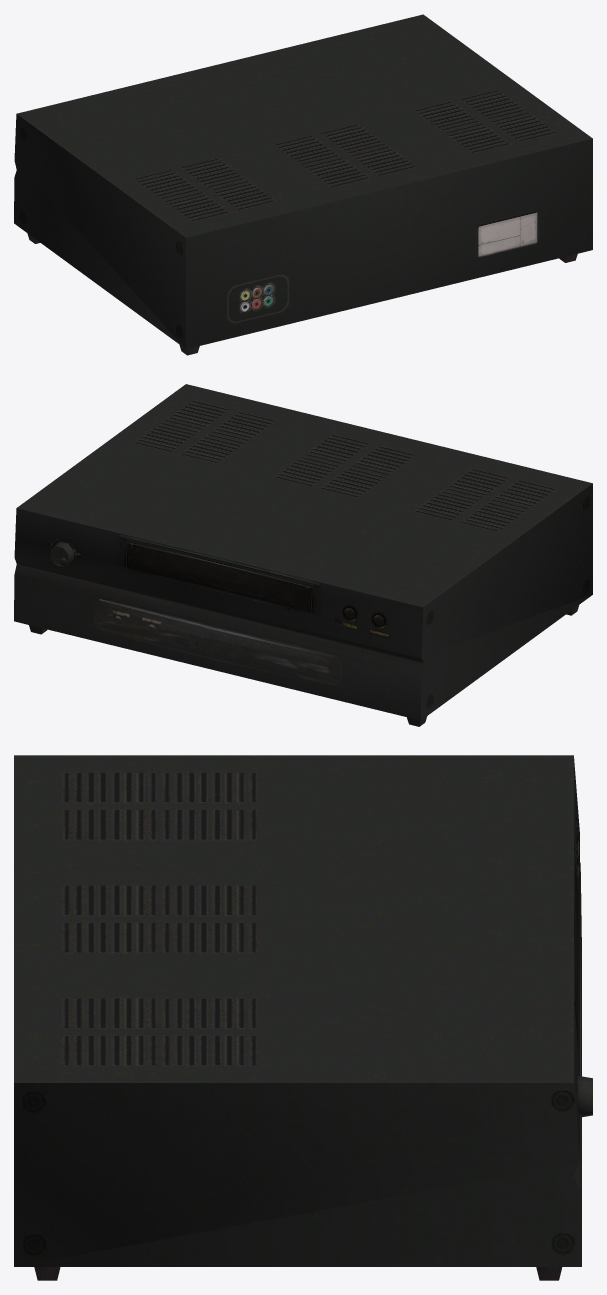
The model's file is Prop_Yx02.glb.
3 views of the same model, one above another, from view 1: azimuth 30°, elevation 25°; view 2: azimuth 150°, elevation 25°; view 3: azimuth 270°, elevation 25° (orthographic). The views are drawn at different scales.
Parts seen in each view (by area): view 1: xiutz_yx_02; view 2: xiutz_yx_02; view 3: xiutz_yx_02.
Part boxes in pixels (left/top/right/bottom): xiutz_yx_02: left=14, top=14, right=592, bottom=355; xiutz_yx_02: left=14, top=384, right=592, bottom=726; xiutz_yx_02: left=14, top=755, right=592, bottom=1280.
Bounding box in the file's own units: 1 × 0.2946 × 0.7497.
Materials: 1 (1 with a texture image).
